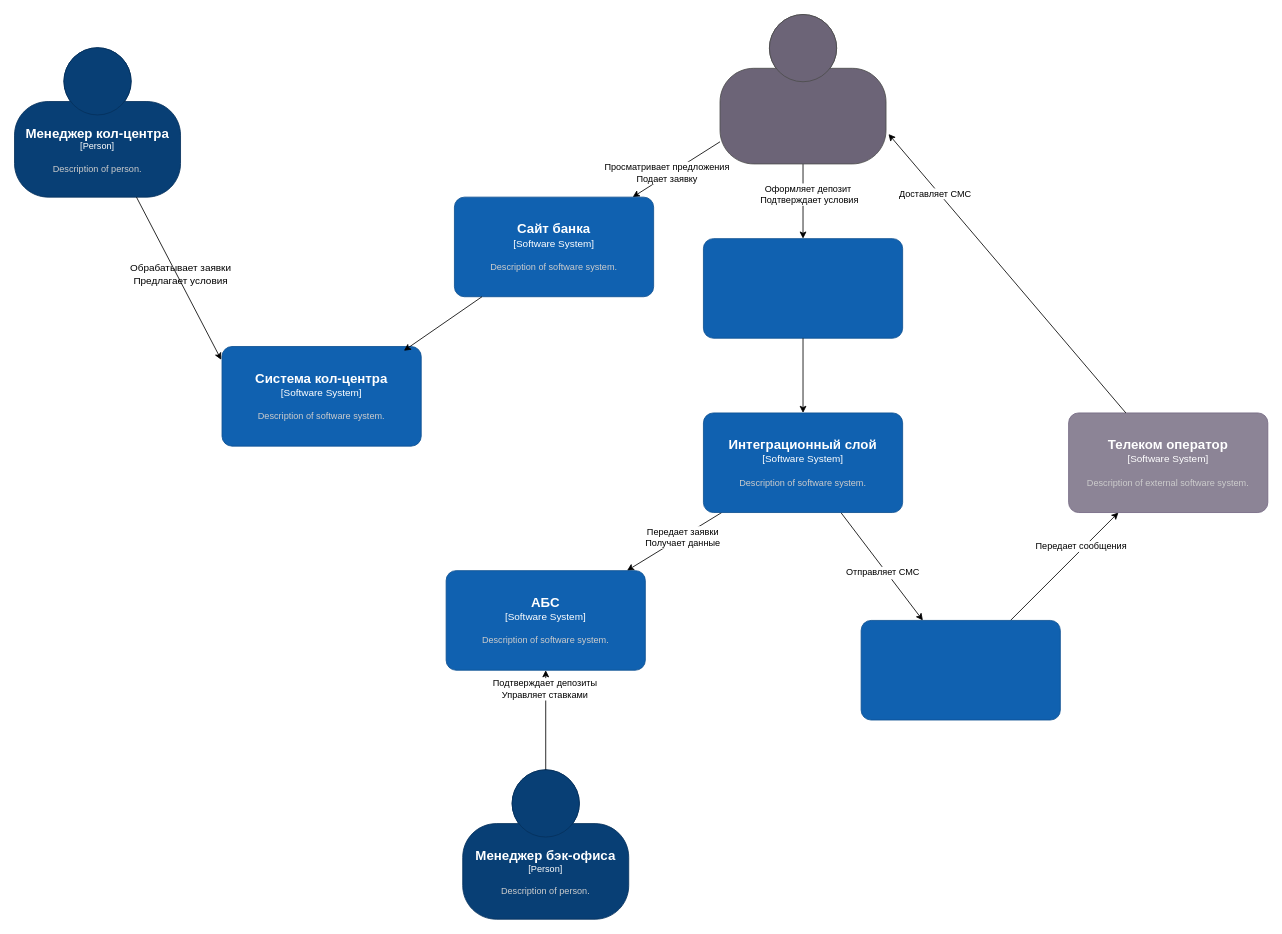
Some shapes in this 1282 by 934 pixel diagram are drawn without their labels. Each missing label, with the centre of its shape:
"SMS шлюз [Software System] Description of software system." goes at (x=960, y=670).
"Интернет банк [Software System] Description of software system." goes at (x=803, y=288).
"Клиент [Person] Description of external person." goes at (x=802, y=89).
